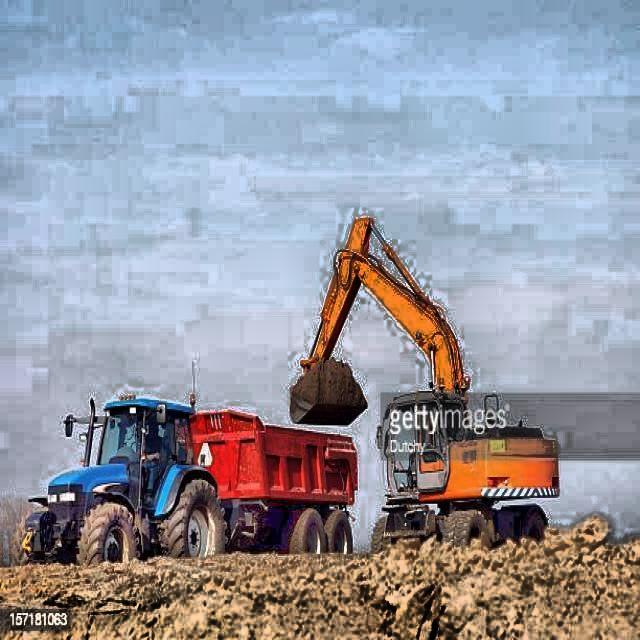excavator: (290, 217, 561, 546)
